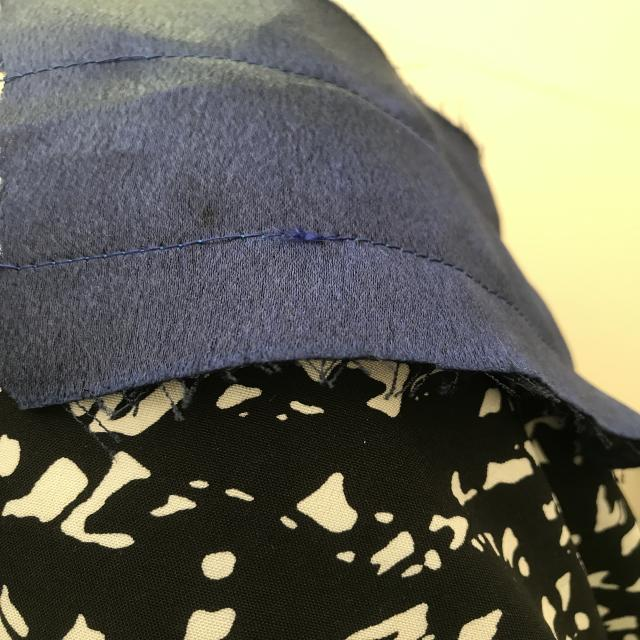skip: (188, 224, 245, 258), (95, 52, 164, 70)
